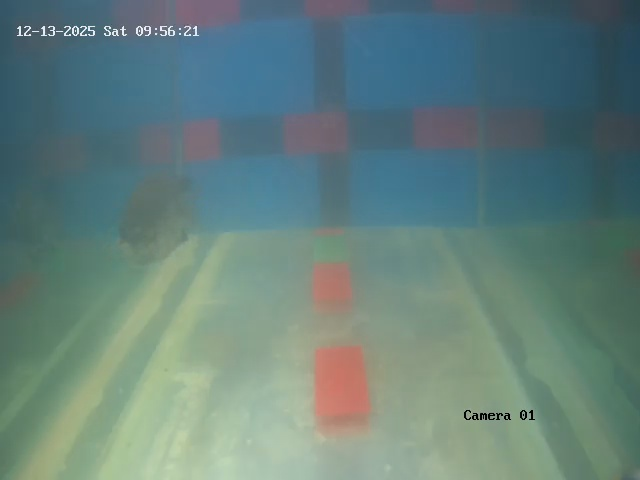fish: (93, 165, 210, 272)
